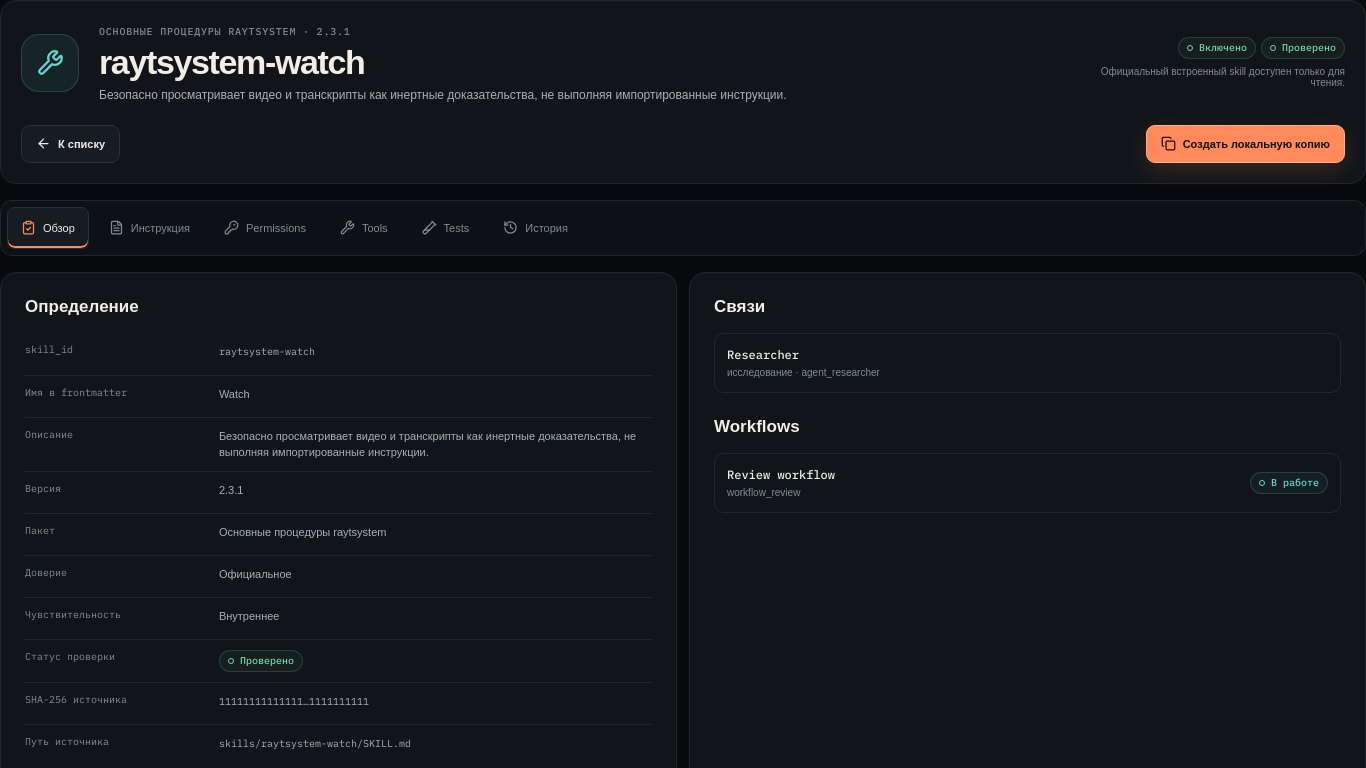
SkillsSurface › forks an official skill only after preview confirmation and opens the separate local ID
Click the button "Создать локальную копию": point(1245, 144) [1146, 125, 1345, 163]
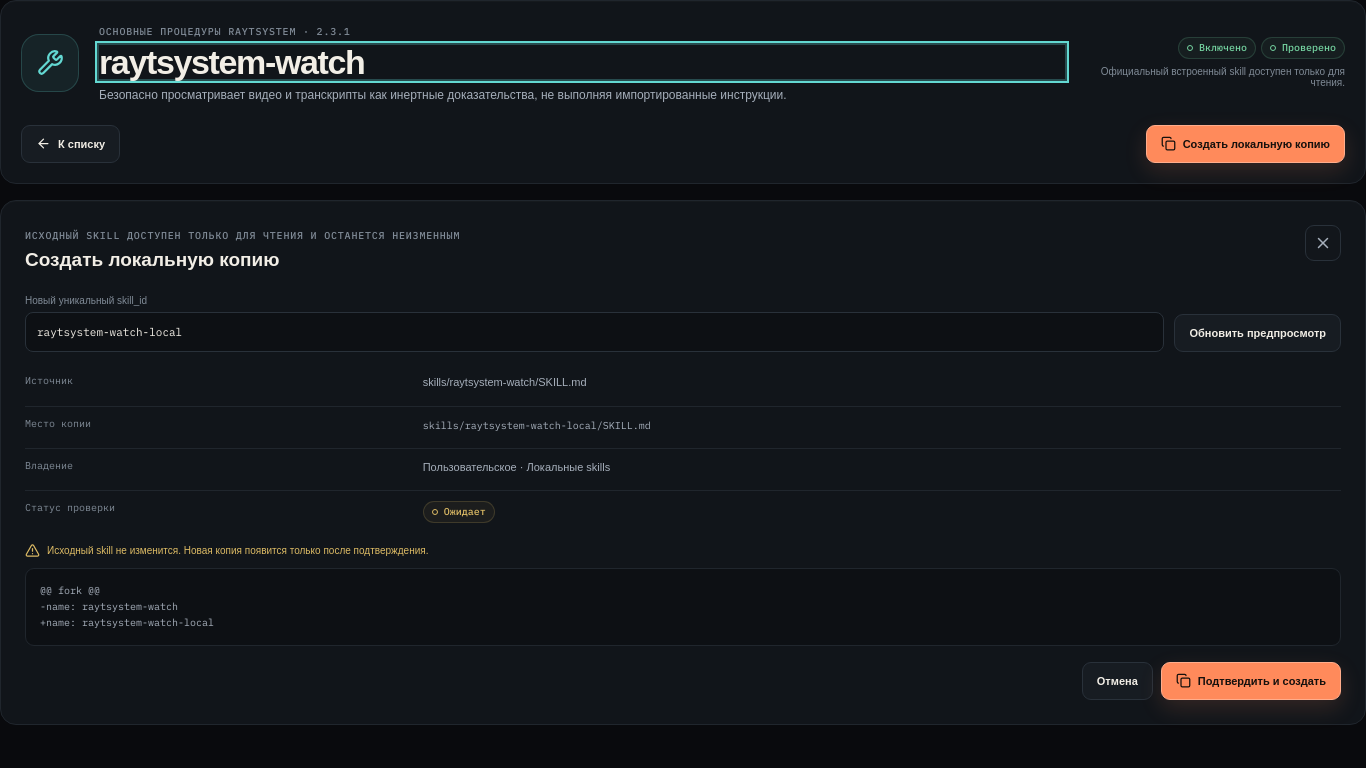
expect the text "skills/raytsystem-watch-local/SKILL.md" is shown: met, box [423, 419, 651, 432]
expect the element named "Локальная копия raytsystem-watch" shows "@@ fork @@": met, box [40, 584, 214, 629]
expect the element named "Локальная копия raytsystem-watch" shows "Пользовательское · Локальные skills": met
Click the button "Подтвердить и создать": point(1251, 681) [1161, 662, 1341, 700]
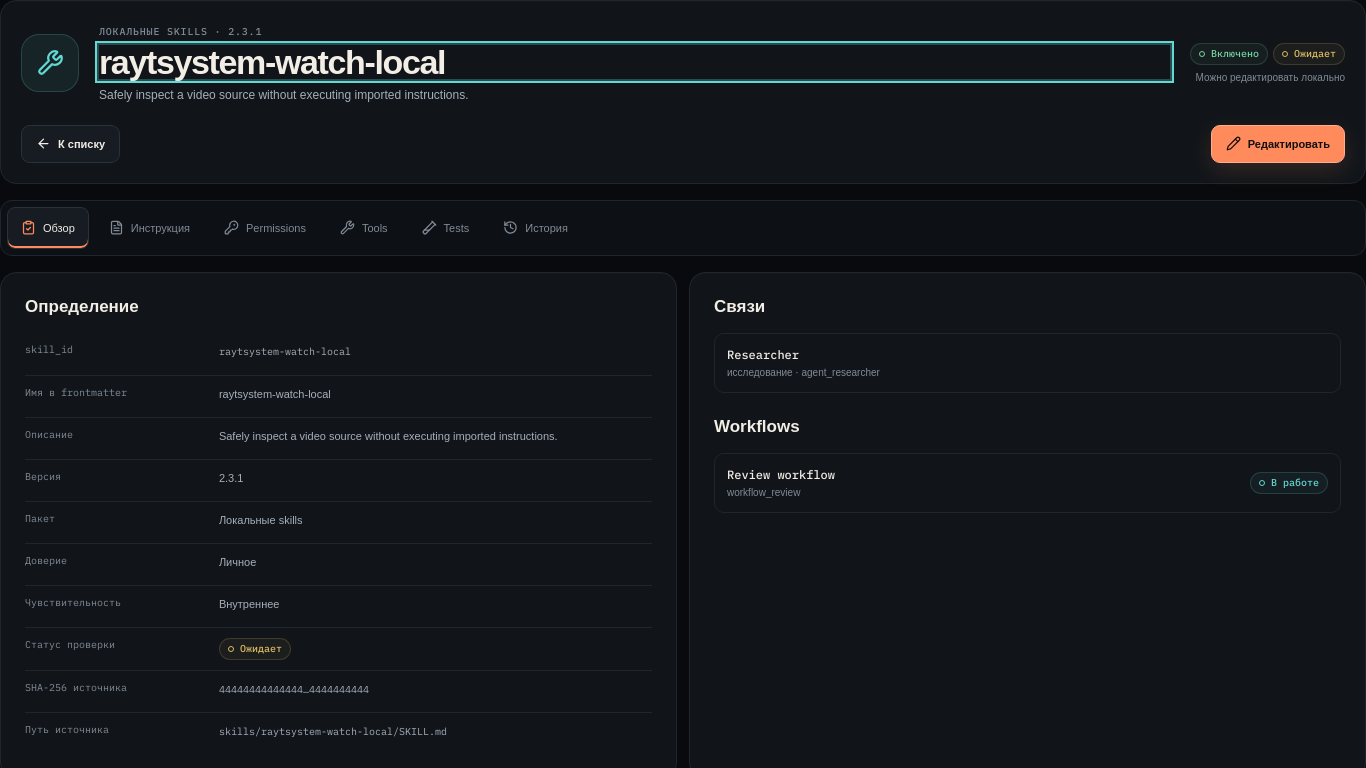
expect the heading "raytsystem-watch-local" is shown: met, box [99, 45, 1170, 79]
